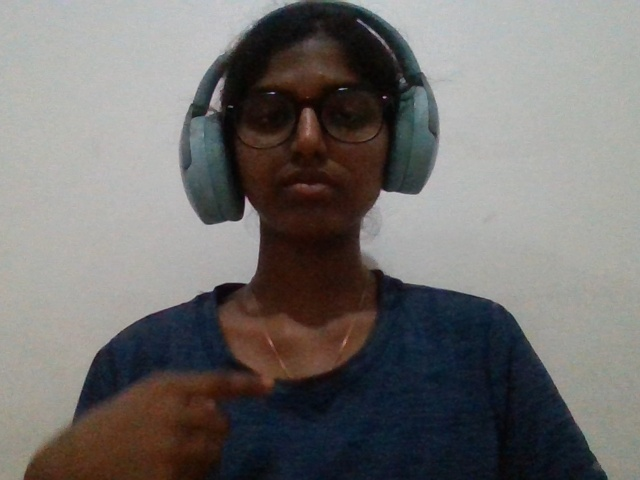Me: (22, 323, 326, 480)
